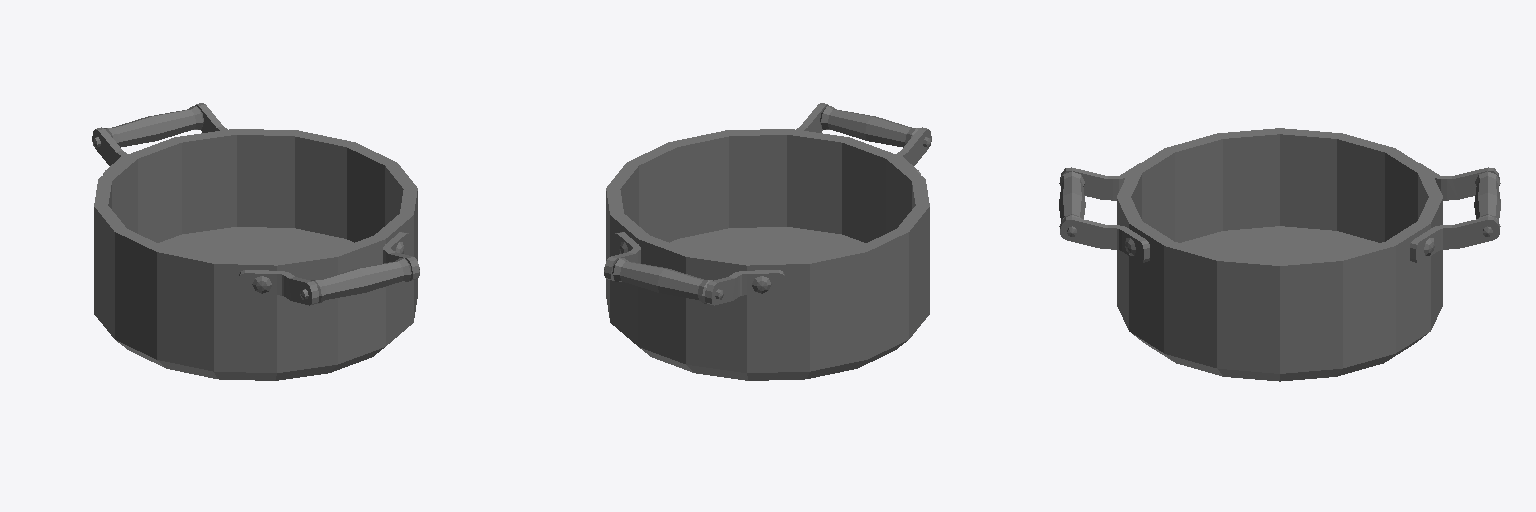
File: Pot.obj
3 renders of one model, left to right at view 1: azimuth 30°, elevation 25°; view 2: azimuth 150°, elevation 25°; view 3: azimuth 270°, elevation 25°, orthographic.
Parts seen in each view (by area): view 1: Pot; view 2: Pot; view 3: Pot.
Boxes of the visible parts, x1,y1,x2,y2 form: Pot: [92, 103, 419, 380]; Pot: [604, 103, 931, 380]; Pot: [1059, 128, 1500, 381].
Bounding box in the file's own units: 2 × 0.857 × 2.71.